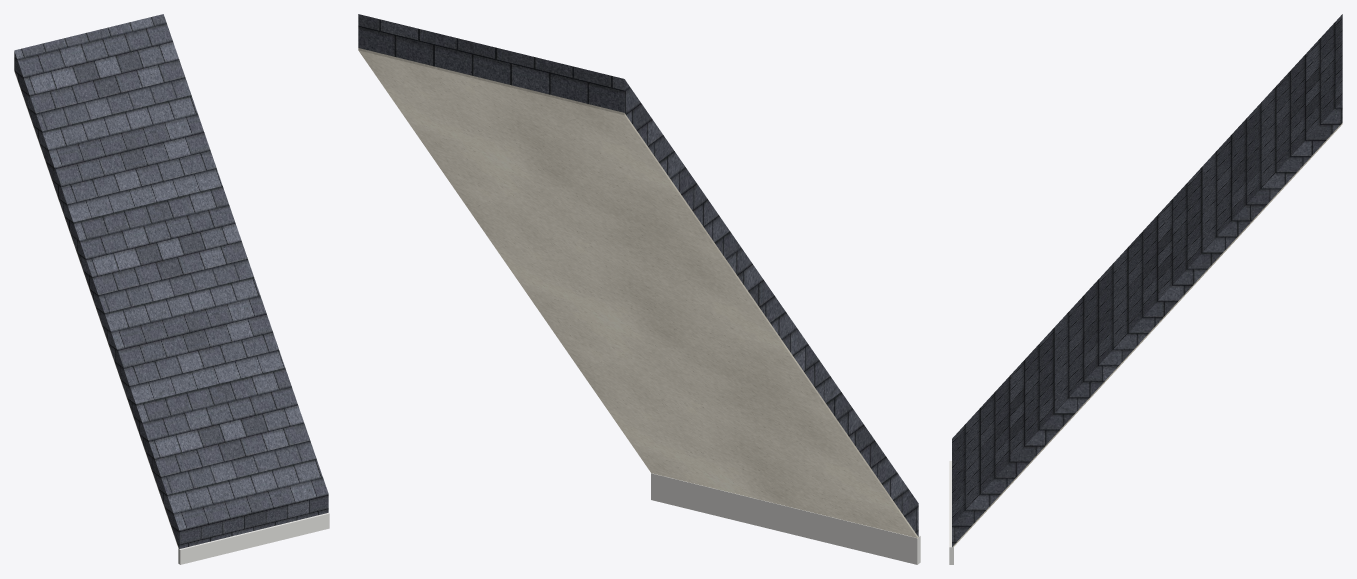
The model's file is roof_slope_end_l.glb.
3 renders of one model, left to right at view 1: azimuth 30°, elevation 25°; view 2: azimuth 150°, elevation 25°; view 3: azimuth 270°, elevation 25°, orthographic. The views are drawn at different scales.
Visible parts, largest first — view 1: roof_slope_end_l_shingles, roof_slope_end_l_trim, roof_slope_end_l_plaster; view 2: roof_slope_end_l_plaster, roof_slope_end_l_shingles, roof_slope_end_l_trim; view 3: roof_slope_end_l_shingles, roof_slope_end_l_plaster.
Part boxes in pixels (left/top/right/bottom): roof_slope_end_l_shingles: left=14, top=14, right=328, bottom=548; roof_slope_end_l_trim: left=178, top=513, right=329, bottom=564; roof_slope_end_l_plaster: left=14, top=70, right=179, bottom=549; roof_slope_end_l_plaster: left=358, top=48, right=918, bottom=538; roof_slope_end_l_shingles: left=358, top=14, right=918, bottom=536; roof_slope_end_l_trim: left=651, top=473, right=920, bottom=564; roof_slope_end_l_shingles: left=952, top=14, right=1342, bottom=546; roof_slope_end_l_plaster: left=952, top=123, right=1342, bottom=547.
Bounding box in the file's own units: 2.3 × 5.78 × 4.43.
Materials: 3 (2 with a texture image).
